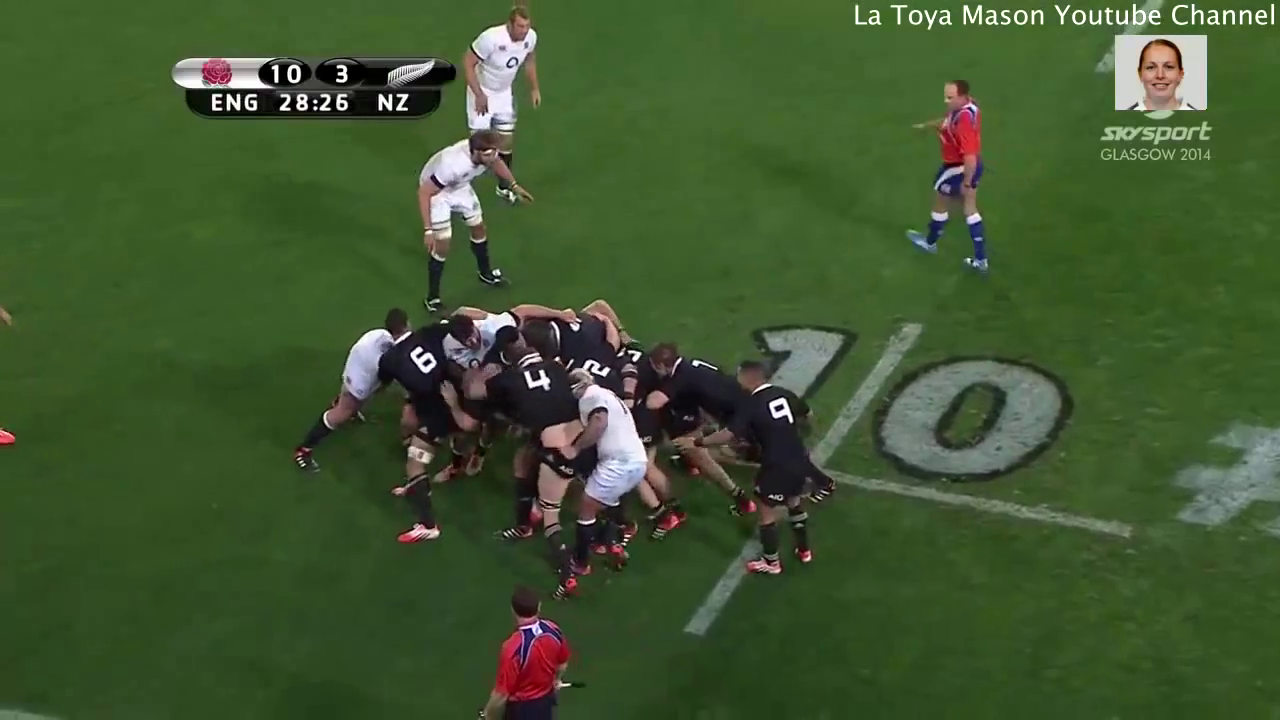10_metre: (603, 312, 1144, 643)
player: (639, 337, 837, 525), (460, 328, 592, 596), (688, 358, 828, 588), (369, 302, 472, 549), (401, 124, 530, 313), (889, 65, 998, 288), (453, 4, 550, 215), (285, 309, 401, 480), (565, 358, 645, 597), (467, 582, 589, 720), (411, 296, 582, 356), (509, 289, 628, 361)
